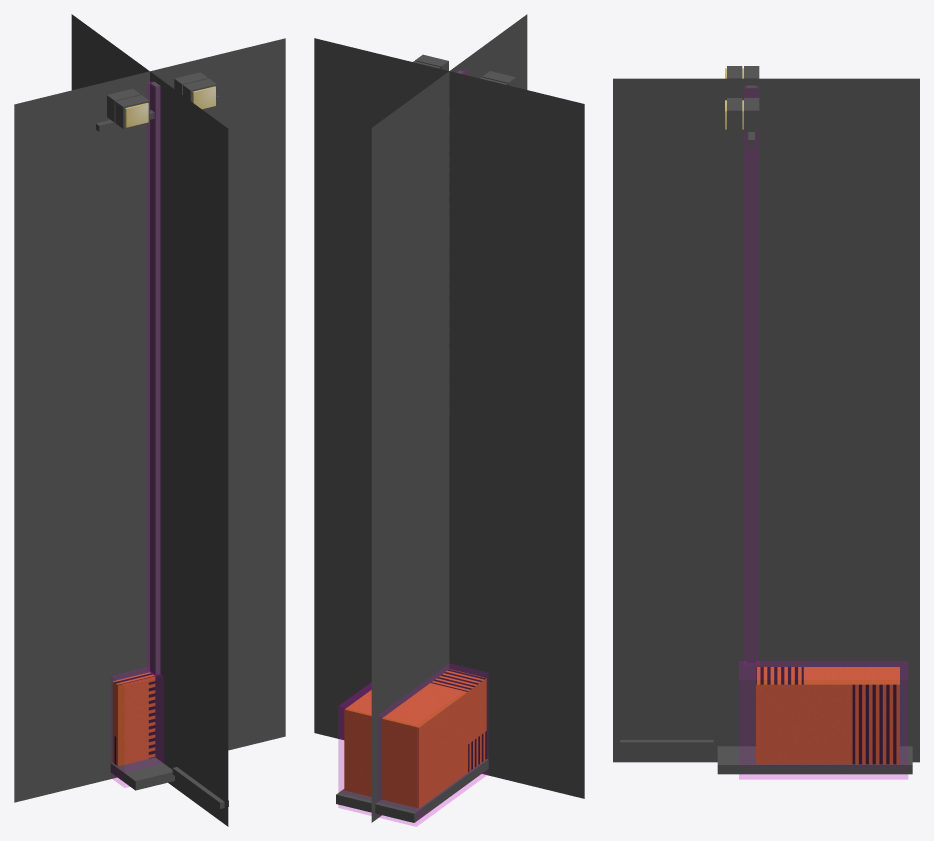
File: lighttower_orange_raised.dae
3 views of the same model, side by side, from view 1: azimuth 30°, elevation 25°; view 2: azimuth 150°, elevation 25°; view 3: azimuth 270°, elevation 25° (orthographic). The views are drawn at different scales.
Parts seen in each view (by area): view 1: lighttower_orange_raised_a50, lighttower_orange_raised_a800, Colmesh_mast-1, Colmesh_body-1, lighttower_orange_raised_a200; view 2: lighttower_orange_raised_a50, Colmesh_body-1, lighttower_orange_raised_a800, lighttower_orange_raised_a200; view 3: lighttower_orange_raised_a50, lighttower_orange_raised_a800, Colmesh_body-1, lighttower_orange_raised_a200, Colmesh_mast-1.
Boxes of the visible parts, left/top/right/bottom form: lighttower_orange_raised_a50: left=14, top=14, right=285, bottom=826; lighttower_orange_raised_a800: left=96, top=72, right=228, bottom=808; Colmesh_mast-1: left=147, top=81, right=160, bottom=675; Colmesh_body-1: left=111, top=668, right=163, bottom=787; lighttower_orange_raised_a200: left=107, top=76, right=216, bottom=765; lighttower_orange_raised_a50: left=314, top=14, right=584, bottom=822; Colmesh_body-1: left=338, top=664, right=487, bottom=826; lighttower_orange_raised_a800: left=336, top=54, right=515, bottom=822; lighttower_orange_raised_a200: left=344, top=55, right=515, bottom=808; lighttower_orange_raised_a50: left=613, top=78, right=919, bottom=762; lighttower_orange_raised_a800: left=620, top=66, right=912, bottom=774; Colmesh_body-1: left=739, top=661, right=907, bottom=779; lighttower_orange_raised_a200: left=727, top=66, right=899, bottom=764; Colmesh_mast-1: left=744, top=86, right=758, bottom=663.
Size of the model in its own units: 3.62 by 3.62 by 8.9.
Materials: 4 (2 with a texture image).
